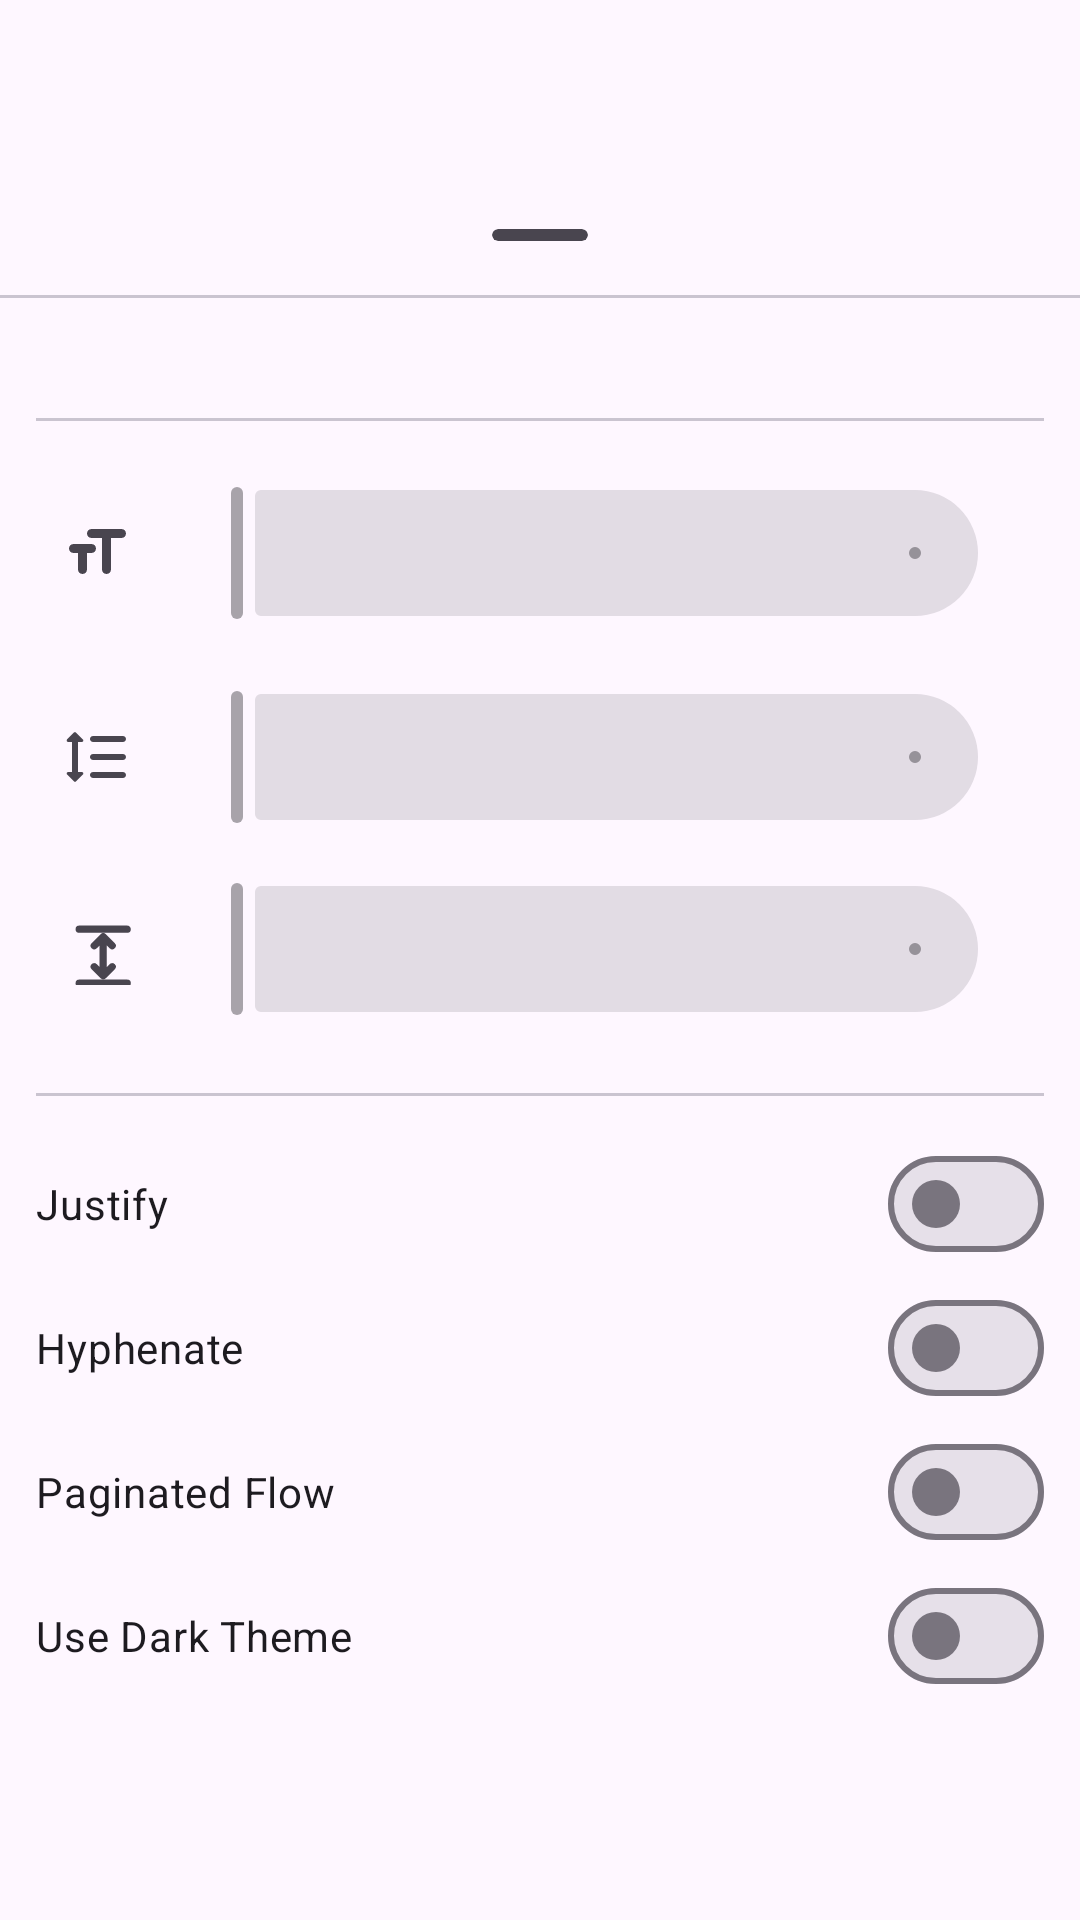

Locate icon controls on the screen. Image size 1080x1920, boxes as region(x1, y1, x2, y2).
format line spacing: region(66, 732, 126, 782)
format size: region(69, 529, 126, 574)
paragraph spacing: region(75, 925, 131, 985)
